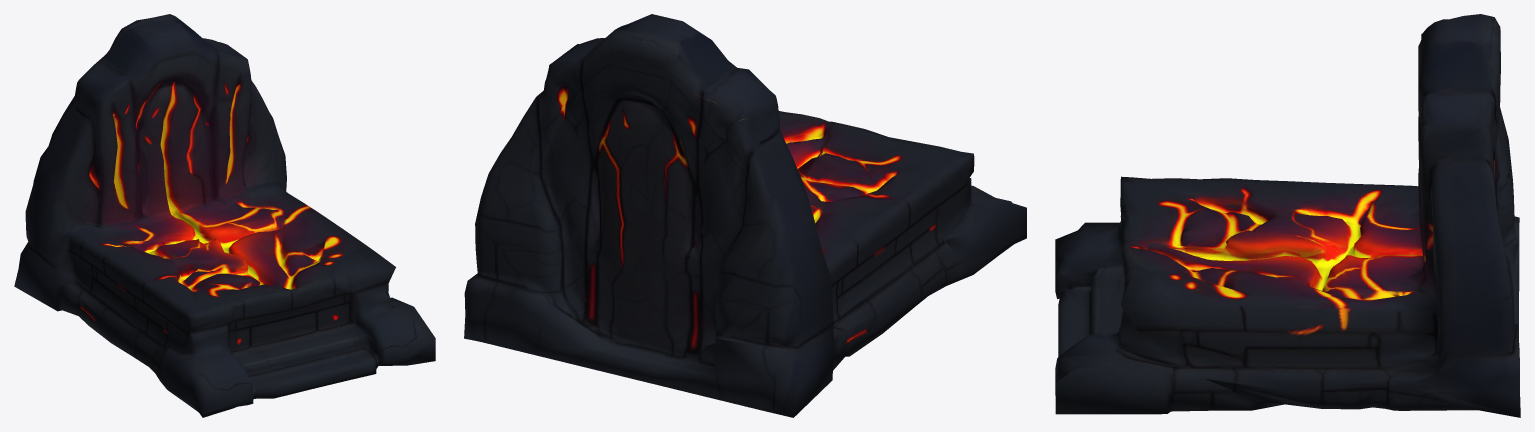
File: z1_altar.glb
The picture shows the model from 3 angles, left to right: view 1: azimuth 30°, elevation 25°; view 2: azimuth 150°, elevation 25°; view 3: azimuth 270°, elevation 25°; orthographic projection. The views are drawn at different scales.
Size of the model in its own units: 1.49 by 1.42 by 1.9.
Materials: 1 (1 with a texture image).
